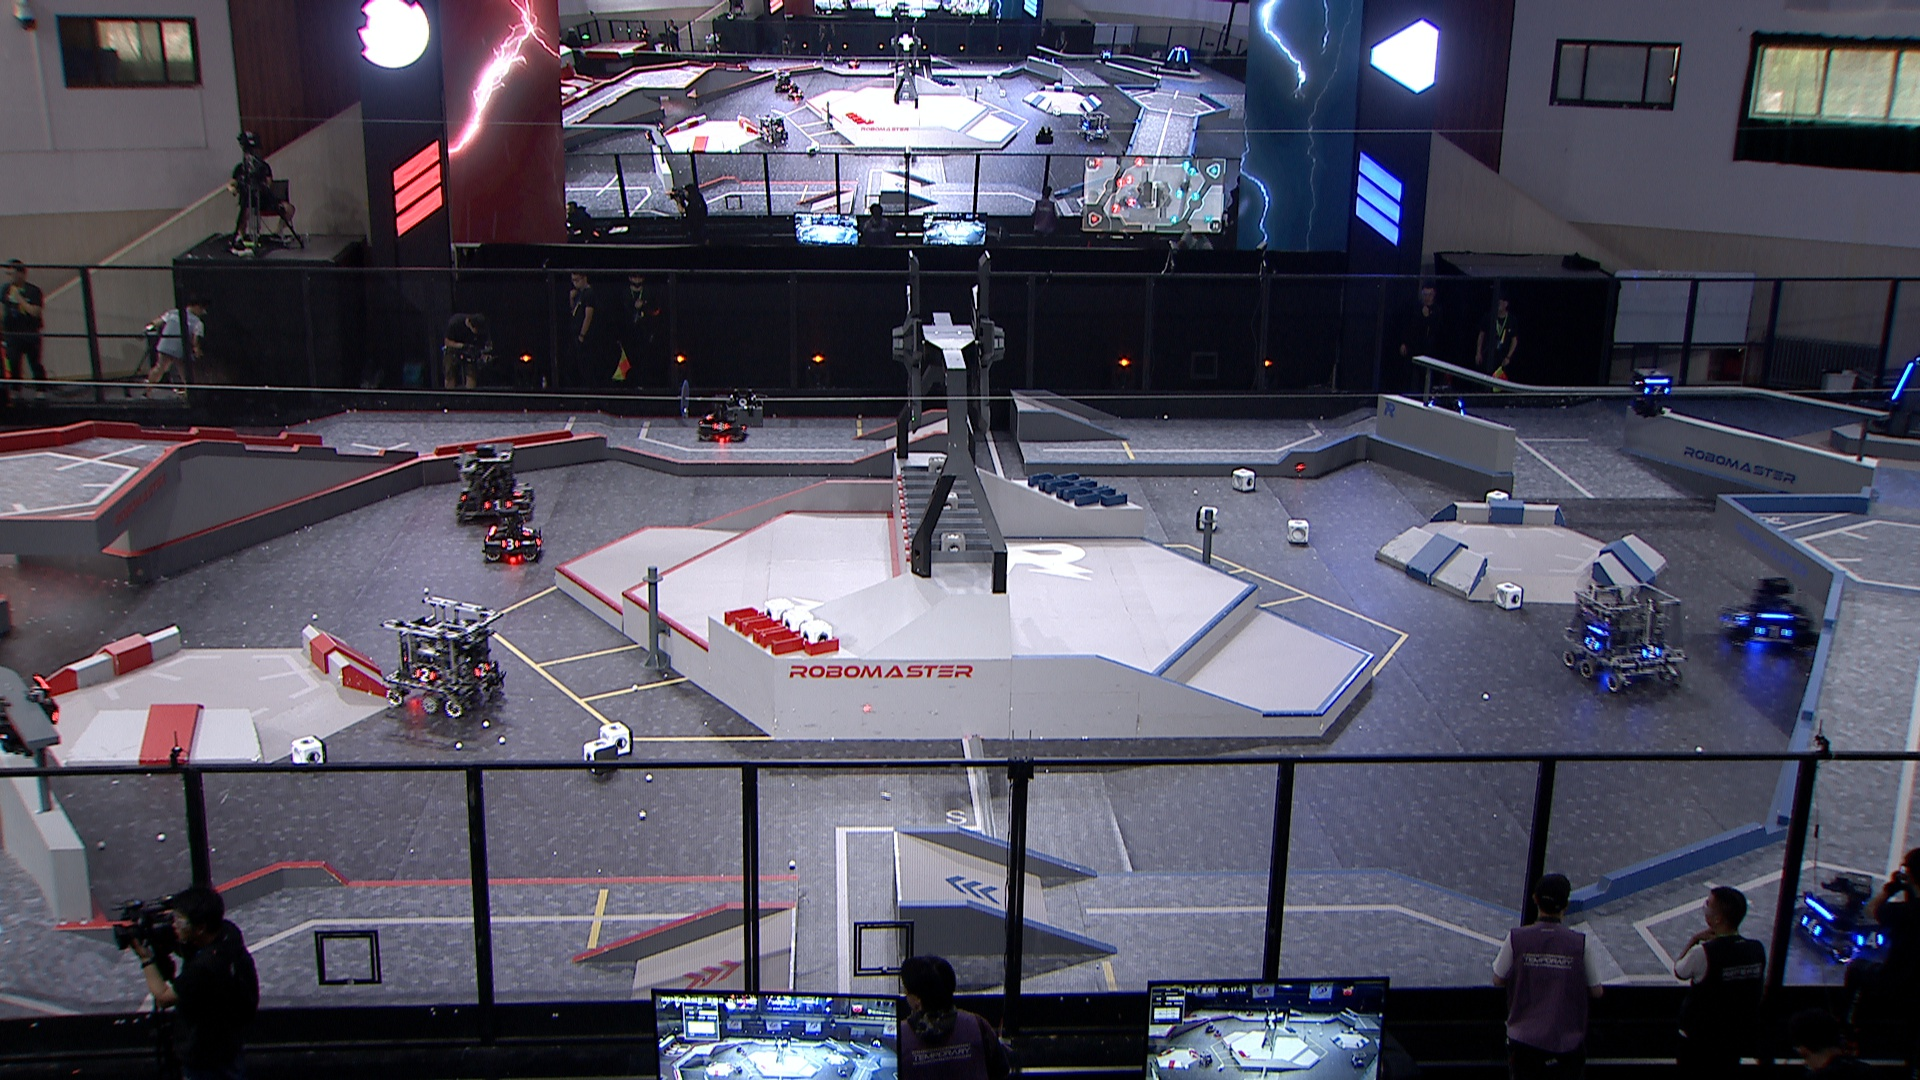armor: (1888, 363, 1917, 401), (1854, 928, 1884, 951), (1756, 624, 1793, 641), (1803, 916, 1826, 938), (1727, 603, 1753, 622), (414, 665, 436, 684), (481, 498, 514, 512), (473, 659, 493, 679), (1584, 633, 1604, 651), (1638, 645, 1662, 659), (500, 535, 520, 553), (1643, 384, 1669, 396), (711, 422, 732, 433), (520, 524, 533, 538)
base: (1869, 349, 1920, 438)
car: (378, 597, 506, 723), (1561, 580, 1688, 694), (1792, 866, 1907, 964), (1713, 578, 1818, 655), (451, 442, 533, 524), (481, 506, 545, 562), (1414, 381, 1468, 433), (694, 401, 746, 444)
ignore: (1073, 109, 1114, 142), (756, 111, 787, 144), (1160, 44, 1191, 73)
watcher: (1629, 363, 1675, 418)
